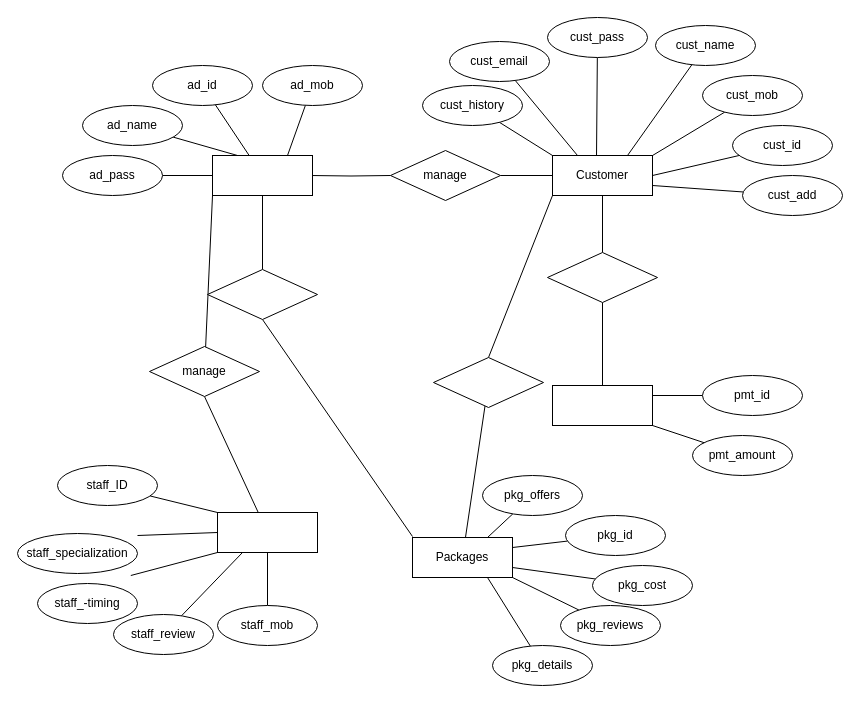
The diagram is 860 pixels wide and 703 high, and some of its shapes have lost their labels. Here are the shapes that lost their labels. From the top down, the centre of each, then its label:
At (262,175): "Admin".
At (262,294): "arrange".
At (602,277): "makes".
At (488,382): "selects".
At (602,405): "Payment".
At (267,532): "Staff".
